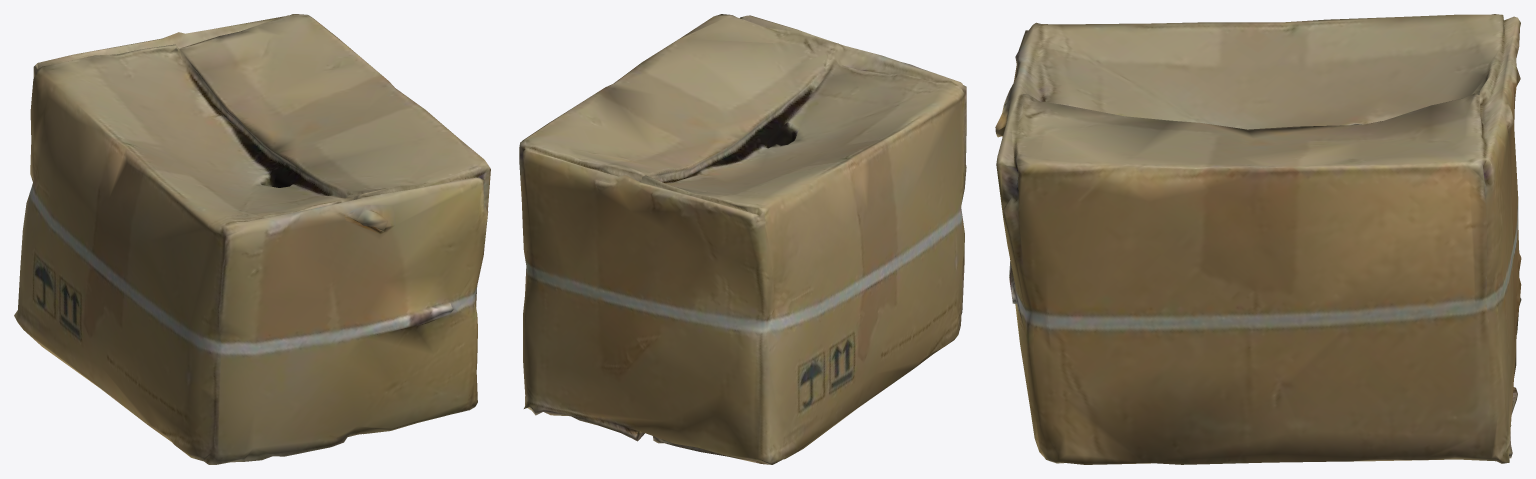
The model's file is cardboard-box.glb.
The picture shows the model from 3 angles, left to right: view 1: azimuth 30°, elevation 25°; view 2: azimuth 150°, elevation 25°; view 3: azimuth 270°, elevation 25°; orthographic projection. The views are drawn at different scales.
Parts seen in each view (by area): view 1: cardboard_box_01; view 2: cardboard_box_01; view 3: cardboard_box_01.
Boxes of the visible parts, x1,y1,x2,y2 form: cardboard_box_01: [14, 14, 490, 464]; cardboard_box_01: [519, 14, 966, 464]; cardboard_box_01: [995, 14, 1521, 464].
Bounding box in the file's own units: 0.3868 × 0.3418 × 0.5159.
Materials: 1 (1 with a texture image).
